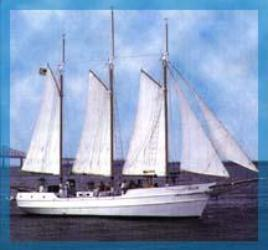Ship: (17, 11, 258, 220)
